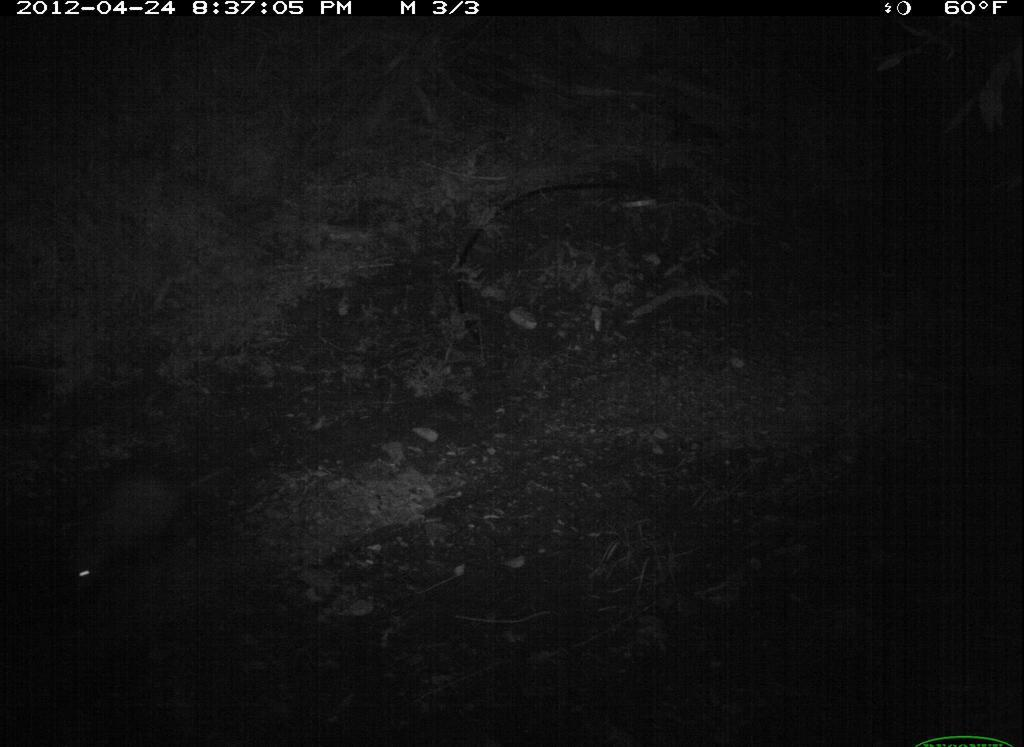opossum: (65, 455, 258, 603)
